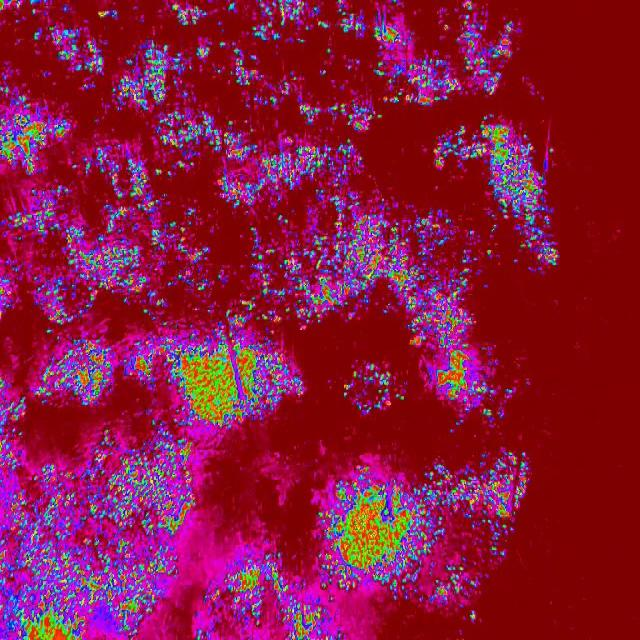fire: (0, 0, 304, 429), (0, 427, 196, 640), (313, 450, 532, 612), (376, 195, 522, 423), (305, 0, 376, 338), (432, 111, 558, 278), (376, 0, 521, 112), (196, 555, 347, 640), (344, 357, 407, 418)
